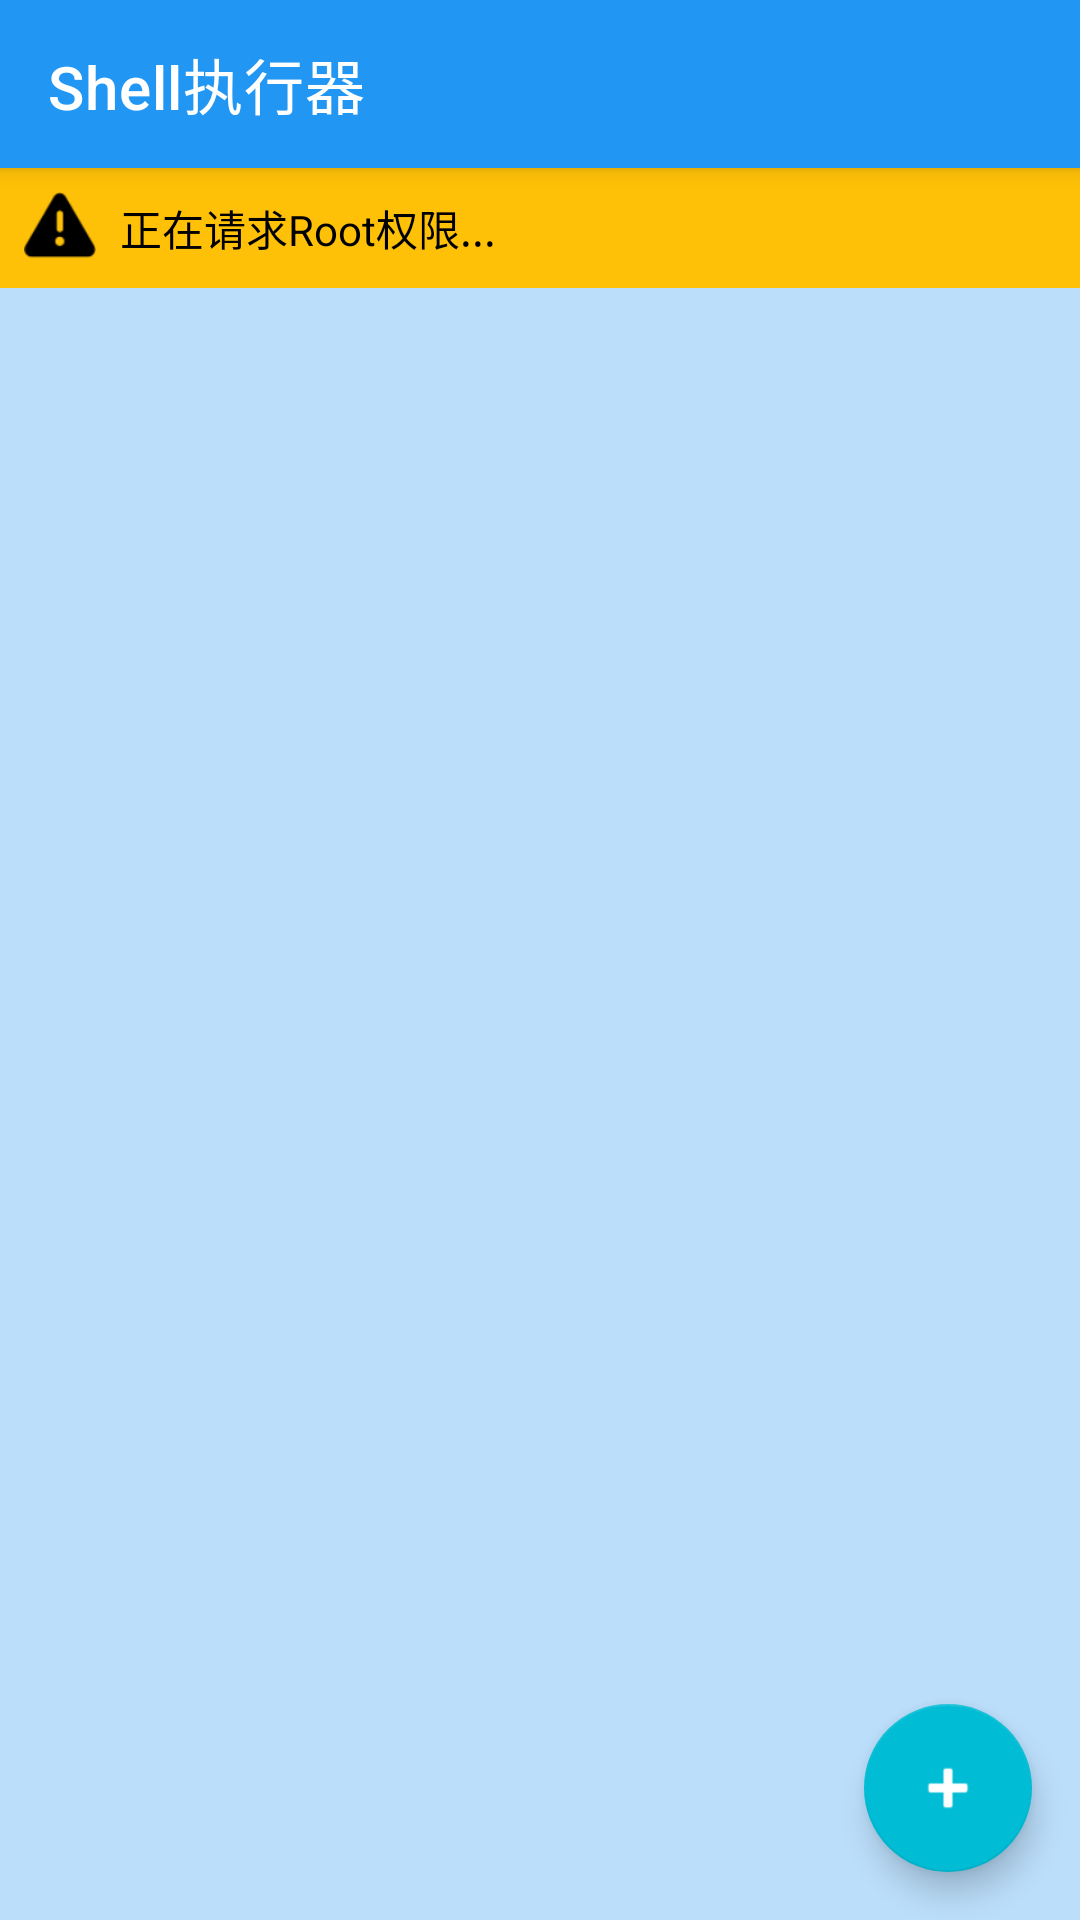

Icon click points for this 1080px x 1920px phone screenshot, format (x,y):
alert: (60,225)
添加脚本: (948,1788)
